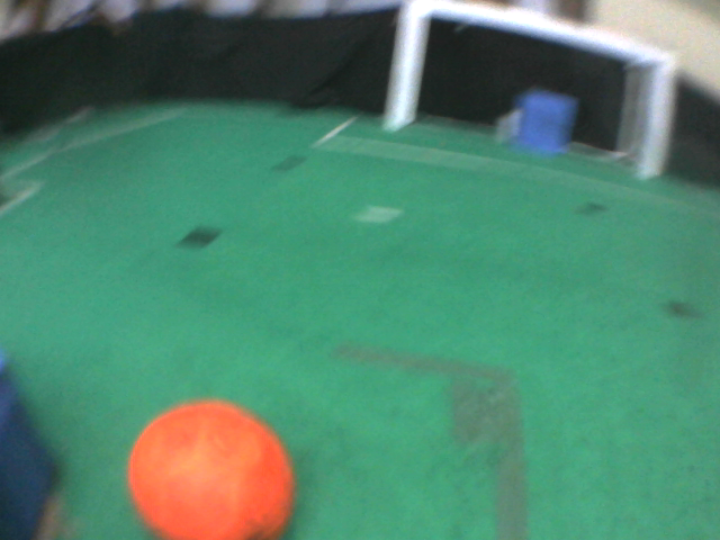bola: (118, 394, 300, 540)
